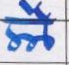ai_matra: (19, 0, 51, 21)
